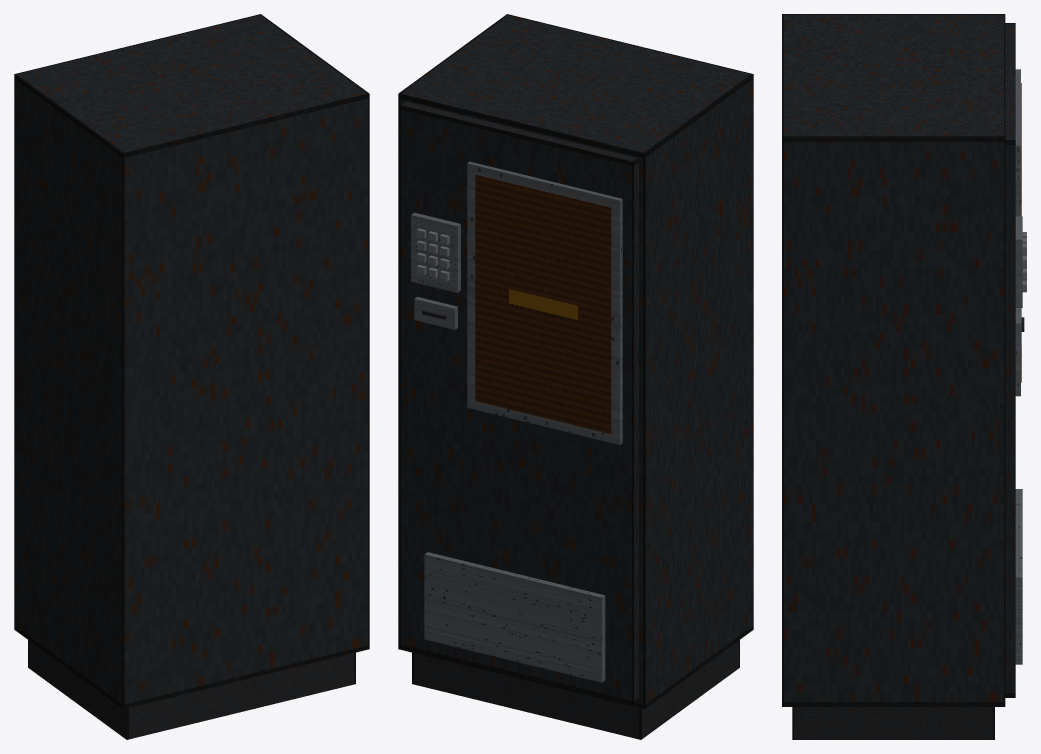
File: ration_automat_industrial_hazard.glb
3 views of the same model, side by side, from view 1: azimuth 30°, elevation 25°; view 2: azimuth 150°, elevation 25°; view 3: azimuth 270°, elevation 25° (orthographic). The views are drawn at different scales.
Visible parts, largest first — view 1: ration_automat_industrial_hazard; view 2: ration_automat_industrial_hazard; view 3: ration_automat_industrial_hazard.
Boxes of the visible parts, x1,y1,x2,y2 form: ration_automat_industrial_hazard: (14, 14, 369, 739); ration_automat_industrial_hazard: (398, 14, 753, 739); ration_automat_industrial_hazard: (782, 14, 1026, 739).
Bounding box in the file's own units: 0.85 × 1.95 × 0.7125.
7 materials, 7 textured.
